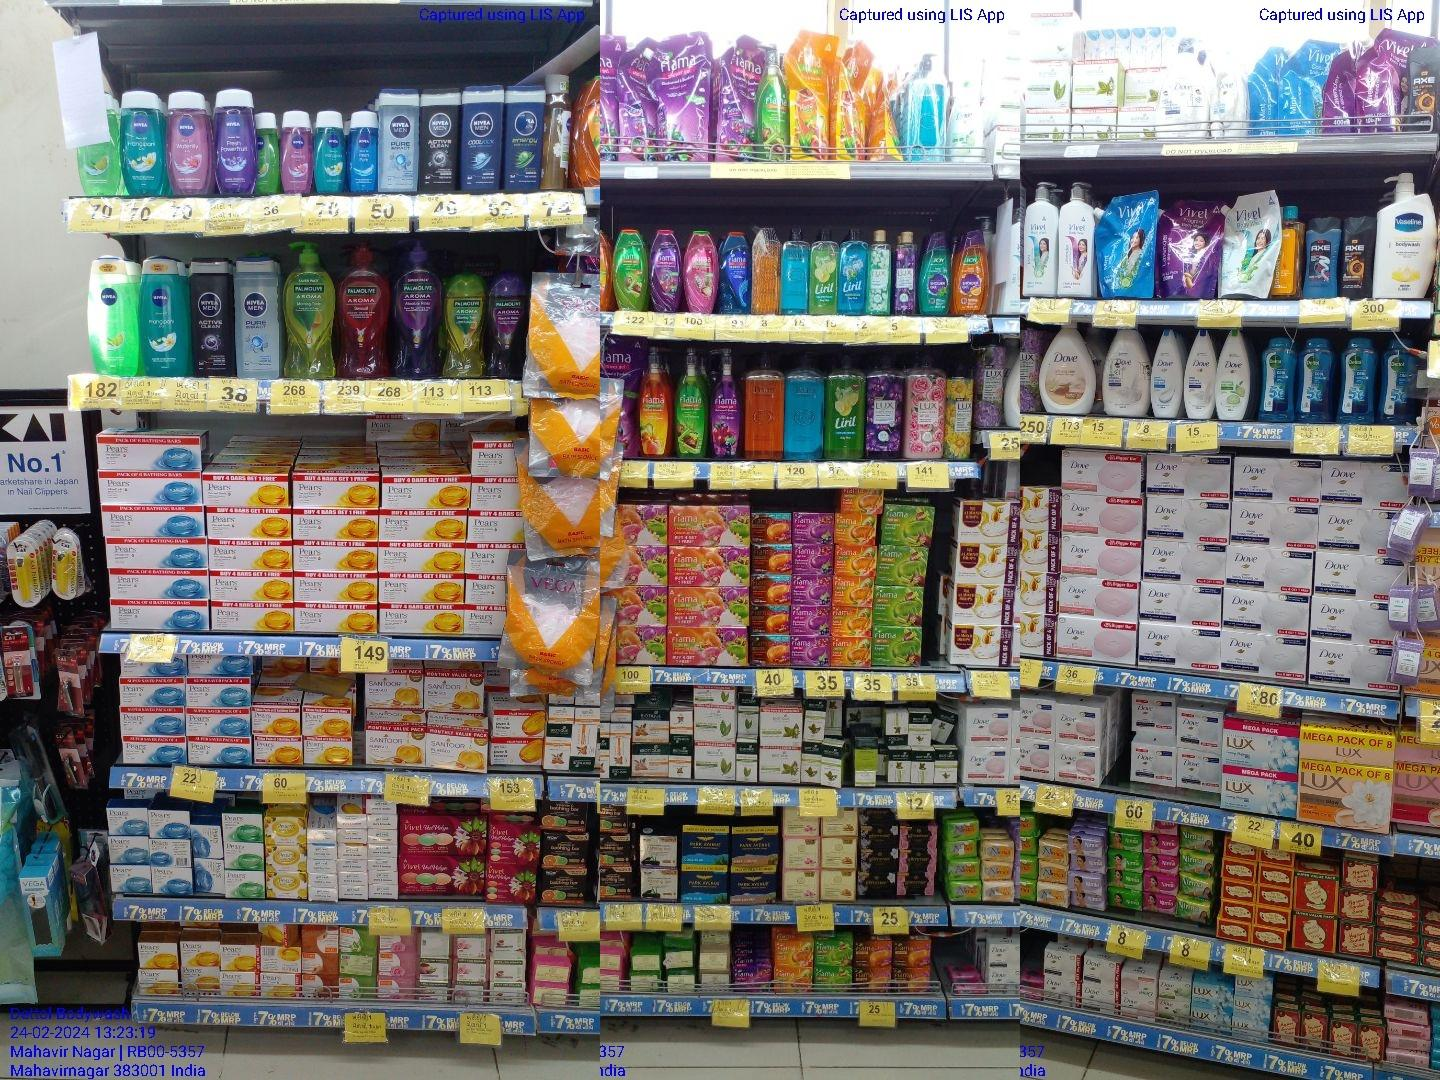Dettol_Bodywash_Cool: (1381, 337, 1417, 424), (1340, 338, 1377, 424), (1261, 338, 1296, 424), (1299, 338, 1333, 421)
Dove_Deep_Moisture_Body_Wash_250ML: (1186, 331, 1214, 419)
Dove_Gentle_Exfoliating_Body_Wash_250ML: (1151, 328, 1184, 419)
Dove_Refreshing_Body_Wash_250ML: (1217, 328, 1248, 419)
Fiama_Shower_Gel_Lemongrass_and_Jojoba_250ML: (616, 229, 647, 309)
Fiama_Shower_Gel_Patchouli_and_Macadamia_250ML: (685, 226, 718, 314)
Joy_Shower_Gel_Mandarin_and_Lemongrass_250ML: (955, 228, 989, 314)
Joy_Shower_Gel_Mint_and_Eucalyptus_250ML: (922, 234, 951, 315)
Liril_Cooling_Mint_Body_Wash_250ML: (840, 226, 867, 314)
Liril_Lime_and_Tea_Tree_Oil_Body_Wash_250ML: (811, 228, 837, 313)
Lux_Black_Orchid_Scent_and_Juniper_Oil_Body_Wash_245ML: (893, 230, 918, 317)
Lux_Body_Wash_Skin_Detox_Freesia_Scent_and_Alove_Vera_245ML: (871, 230, 890, 315)
Nivea_Shower_Gel_Frangipani_and_Oil_250ML: (139, 262, 188, 376), (118, 91, 163, 196)
Nivea_Shower_Gel_Fresh_Powerfruit_250ML: (215, 93, 257, 191)
Nivea_Shower_Gel_Lemon_and_Oil_250ML: (91, 250, 136, 377)
Nivea_Shower_Gel_Waterlily_and_Oil_250ML: (167, 90, 212, 196)
Palmolive_Aroma_Morning_Tonic_Shower_Gel_250ML: (444, 275, 483, 377)
Palmolive_Aroma_Relax_250ML: (485, 273, 519, 374)
Pears_Pure_Glycerin_and_Mint_Extracts_Body_Wash_250ML: (780, 225, 808, 313)
